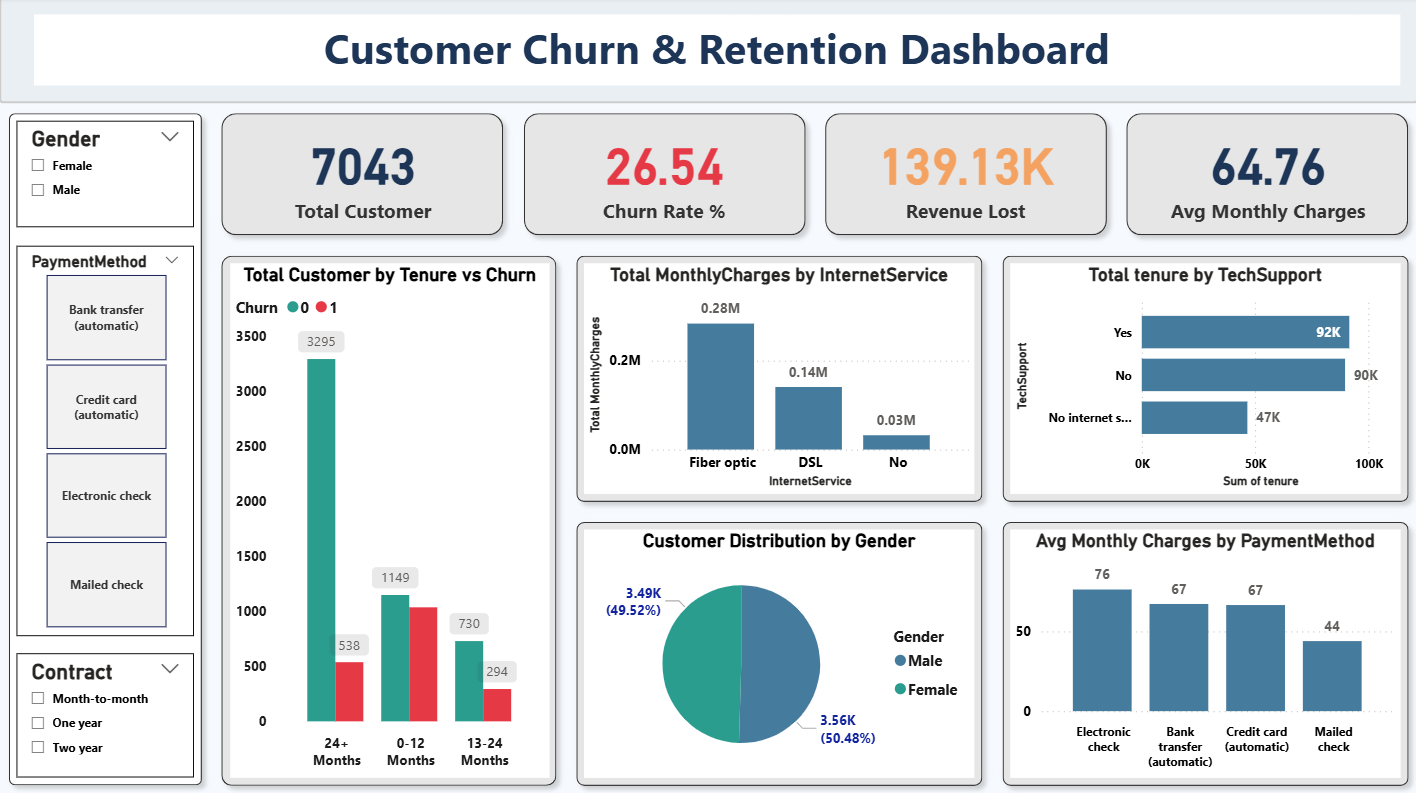

Layout of this report page (visuals, bound fields, positions):
{"tool":"powerbi","page":{"name":"churn_dashboard","canvas":[1280,720],"ordinal":0},"visuals":[{"type":"shape","box":[0,0,1280,96],"z":0},{"type":"shape","box":[1008,96,272,128],"z":1000},{"type":"shape","box":[736,96,272,128],"z":2000},{"type":"shape","box":[464,96,272,128],"z":3000},{"type":"shape","box":[192,96,272,128],"z":4000},{"type":"shape","box":[896,464,384,256],"z":5000},{"type":"card","fields":{"Values":["cleaned_churn.Total Customer"]},"box":[208,112,240,96],"z":6000},{"type":"card","fields":{"Values":["cleaned_churn.Churn Rate %"]},"box":[480,112,240,96],"z":7000},{"type":"card","fields":{"Values":["cleaned_churn.Revenue Lost"]},"box":[752,112,240,96],"z":8000},{"type":"card","fields":{"Values":["cleaned_churn.Avg Monthly Charges"]},"box":[1024,112,240,96],"z":9000},{"type":"shape","box":[512,224,384,240],"z":10000},{"type":"shape","box":[896,224,384,240],"z":11000},{"type":"shape","box":[512,464,384,256],"z":12000},{"type":"shape","box":[192,224,320,496],"z":13000},{"type":"clusteredColumnChart","title":"Total Customer by Tenure vs Churn","fields":{"Category":["cleaned_churn.Tenure Group"],"Series":["cleaned_churn.Churn"],"Y":["cleaned_churn.Total Customer"]},"box":[208,240,288,464],"z":14000},{"type":"pieChart","title":"Customer Distribution by Gender","fields":{"Category":["cleaned_churn.gender"],"Y":["CountNonNull(cleaned_churn.customerID)"]},"box":[528,480,352,224],"z":15000},{"type":"columnChart","fields":{"Category":["cleaned_churn.InternetService"],"Y":["Sum(cleaned_churn.MonthlyCharges)"]},"box":[528,240,352,208],"z":16000},{"type":"clusteredColumnChart","fields":{"Category":["cleaned_churn.PaymentMethod"],"Y":["cleaned_churn.Avg Monthly Charges"]},"box":[912,480,352,224],"z":17000},{"type":"clusteredBarChart","title":"Total tenure by TechSupport","fields":{"Category":["cleaned_churn.TechSupport"],"Y":["Sum(cleaned_churn.tenure)"]},"box":[912,240,352,208],"z":18000},{"type":"shape","box":[0,96,192,624],"z":19000},{"type":"slicer","fields":{"Values":["cleaned_churn.gender"]},"box":[16,112,160,96],"z":20000},{"type":"slicer","fields":{"Values":["cleaned_churn.Contract"]},"box":[16,592,160,112],"z":21000},{"type":"slicer","fields":{"Values":["cleaned_churn.PaymentMethod"]},"box":[16,224,160,352],"z":22000},{"type":"textbox","box":[32,16,1232,64],"z":23000}]}

Visuals, with their boxes in screenshot pixels (x1, y1, x2, y2), scaled from the page's 1280x720 canvas onto the 1416x793 screenshot:
shape: crop(0, 0, 1415, 106)
shape: crop(1115, 106, 1415, 247)
shape: crop(814, 106, 1115, 247)
shape: crop(513, 106, 814, 247)
shape: crop(212, 106, 513, 247)
shape: crop(991, 511, 1415, 792)
card - cleaned_churn.Total Customer: crop(230, 123, 496, 229)
card - cleaned_churn.Churn Rate %: crop(531, 123, 796, 229)
card - cleaned_churn.Revenue Lost: crop(832, 123, 1097, 229)
card - cleaned_churn.Avg Monthly Charges: crop(1133, 123, 1398, 229)
shape: crop(566, 247, 991, 511)
shape: crop(991, 247, 1415, 511)
shape: crop(566, 511, 991, 792)
shape: crop(212, 247, 566, 792)
"Total Customer by Tenure vs Churn" clusteredColumnChart: crop(230, 264, 549, 775)
"Customer Distribution by Gender" pieChart: crop(584, 529, 974, 775)
columnChart - cleaned_churn.InternetService x Sum(cleaned_churn.MonthlyCharges): crop(584, 264, 974, 493)
clusteredColumnChart - cleaned_churn.PaymentMethod x cleaned_churn.Avg Monthly Charges: crop(1009, 529, 1398, 775)
"Total tenure by TechSupport" clusteredBarChart: crop(1009, 264, 1398, 493)
shape: crop(0, 106, 212, 792)
slicer - cleaned_churn.gender: crop(18, 123, 195, 229)
slicer - cleaned_churn.Contract: crop(18, 652, 195, 775)
slicer - cleaned_churn.PaymentMethod: crop(18, 247, 195, 634)
textbox: crop(35, 18, 1398, 88)
